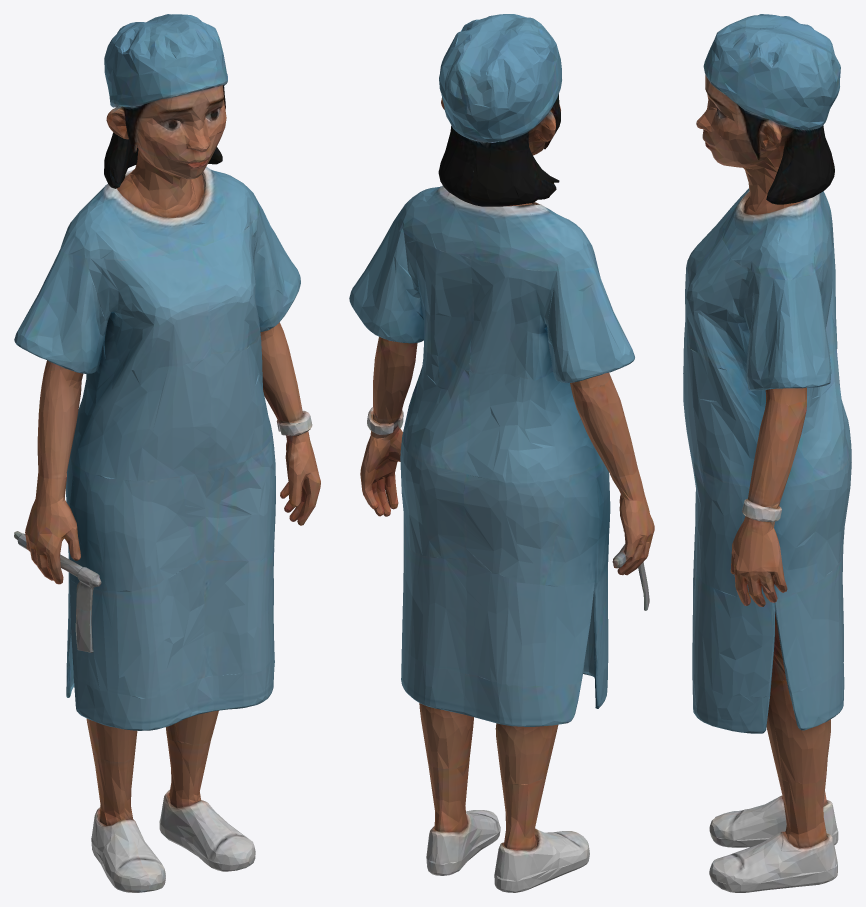
The model's file is nurse.glb.
The picture shows the model from 3 angles, left to right: view 1: azimuth 30°, elevation 25°; view 2: azimuth 150°, elevation 25°; view 3: azimuth 270°, elevation 25°; orthographic projection.
Visible parts, largest first — view 1: tripo_node_07be5995-d0f7-4101-9512-fc3e742effc8; view 2: tripo_node_07be5995-d0f7-4101-9512-fc3e742effc8; view 3: tripo_node_07be5995-d0f7-4101-9512-fc3e742effc8.
Part boxes in pixels (x1,y1,x2,y2): tripo_node_07be5995-d0f7-4101-9512-fc3e742effc8: (14,14,320,892); tripo_node_07be5995-d0f7-4101-9512-fc3e742effc8: (349,14,654,892); tripo_node_07be5995-d0f7-4101-9512-fc3e742effc8: (683,14,851,892).
Bounding box in the file's own units: 0.353 × 0.9999 × 0.1821.
1 material, 1 textured.
